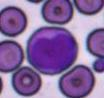M: (26, 26, 79, 75)
